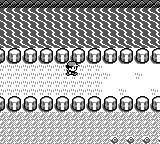captura: (0, 8, 160, 48)
main: (65, 61, 79, 76)
no-caminable: (1, 96, 159, 112), (1, 48, 159, 63)
